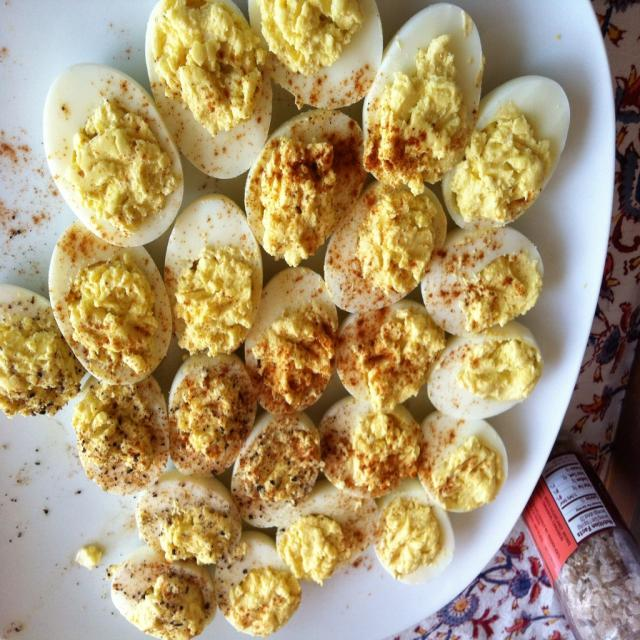Egg: (0, 0, 572, 639)
